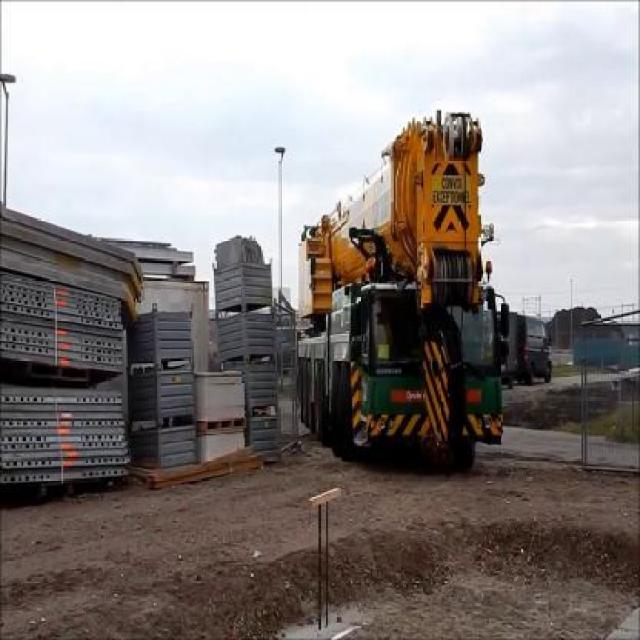Mobile Crane: (292, 116, 499, 459)
